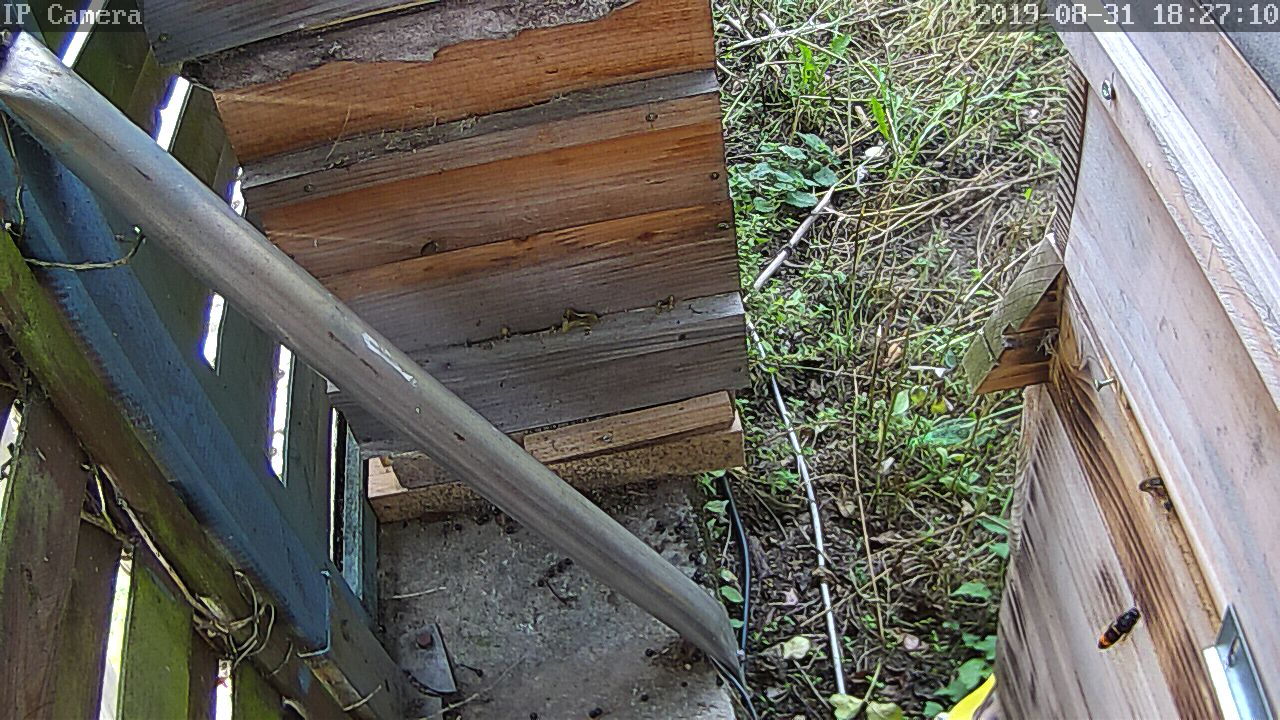bee: (1131, 471, 1168, 504)
hornet: (1089, 599, 1142, 656)
